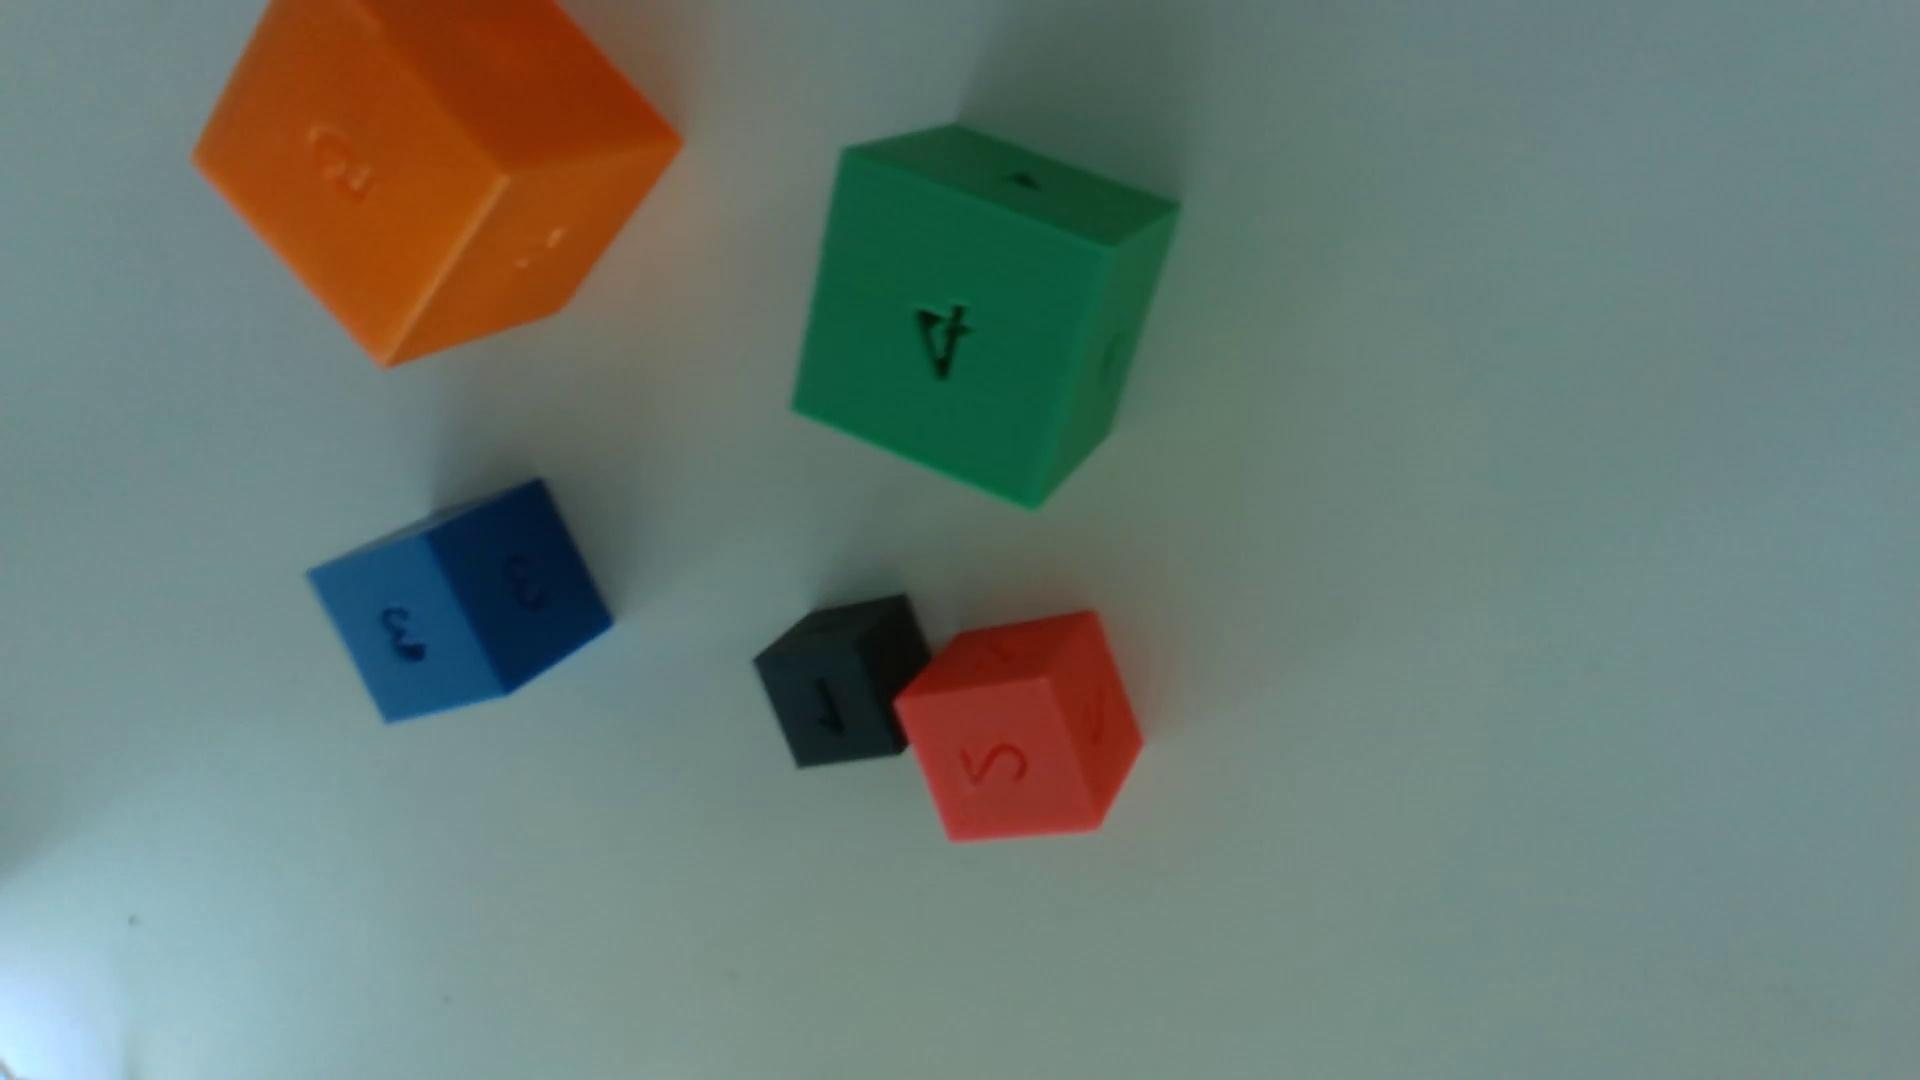black: (753, 593, 928, 767)
blue: (309, 479, 613, 723)
green: (793, 124, 1178, 506)
orange: (194, 0, 680, 365)
red: (895, 611, 1142, 841)
